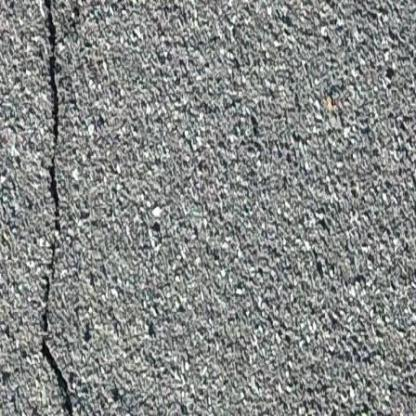Cracks: (27, 0, 96, 416)
